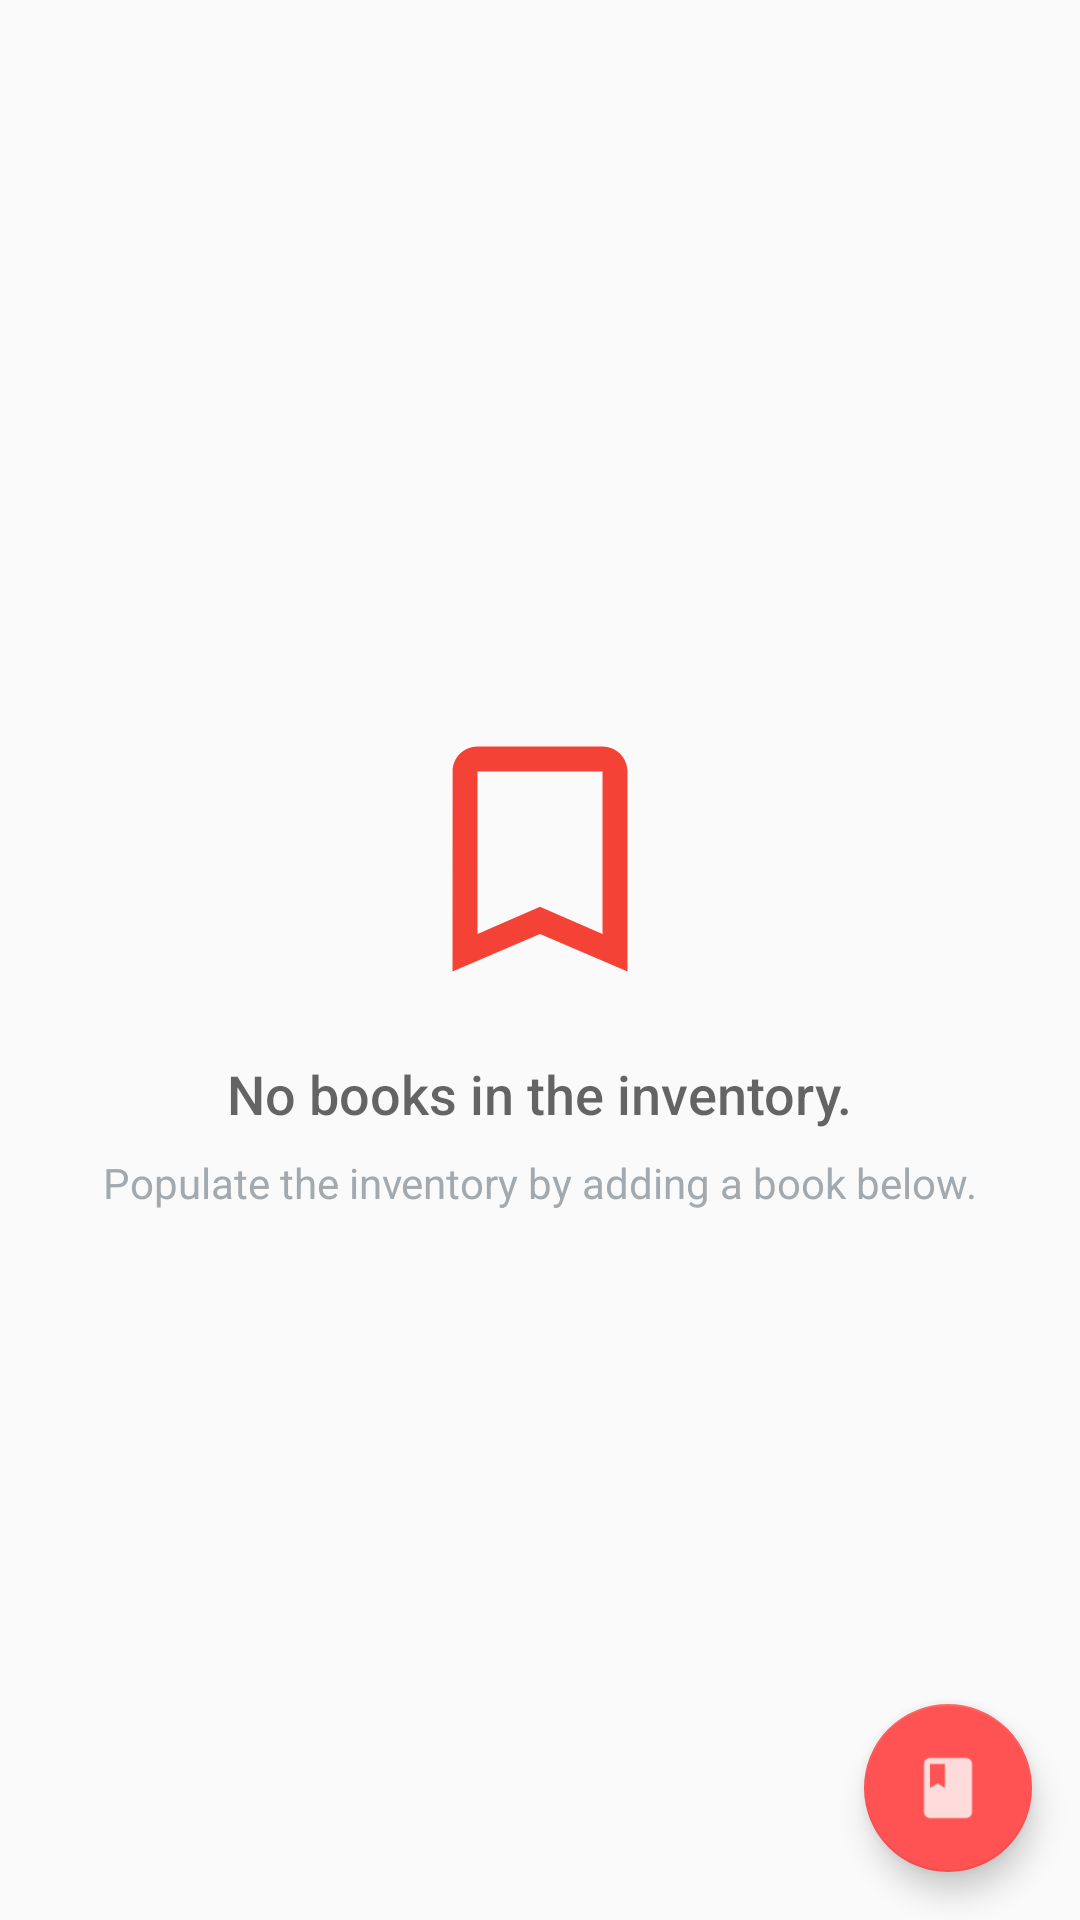

Icons on this 1080x1920 Android screen, each with its box as (x1, y1, x2, y2):
add book: (864, 1704, 1032, 1872)
